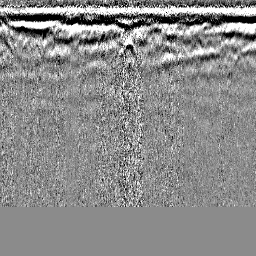cavity: (119, 37, 137, 59)
